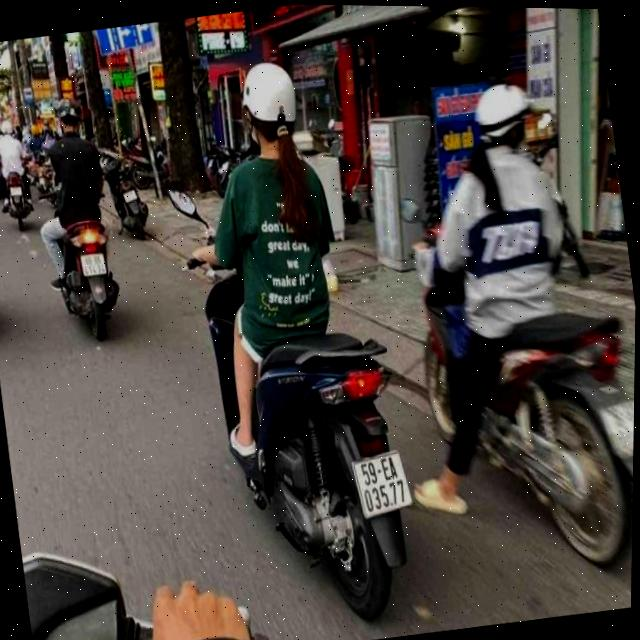motorcycle: (159, 156, 434, 640), (381, 161, 638, 616), (54, 202, 130, 349), (105, 161, 160, 253), (0, 164, 34, 233)
plate: (348, 441, 415, 524), (592, 386, 634, 471), (75, 244, 112, 284)
